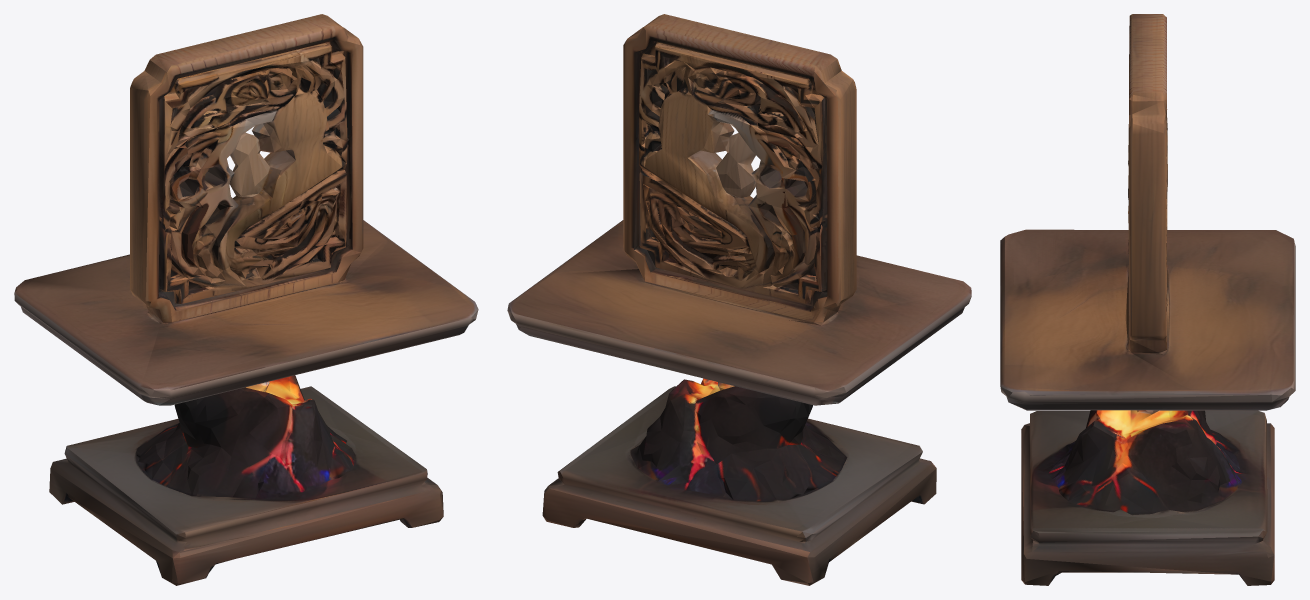
File: product-village-003-mobile.glb
3 renders of one model, left to right at view 1: azimuth 30°, elevation 25°; view 2: azimuth 150°, elevation 25°; view 3: azimuth 270°, elevation 25°, orthographic.
Visible parts, largest first — view 1: material; view 2: material; view 3: material.
Part boxes in pixels (box(x1,y1,x2,y2)): material: box(14, 14, 478, 585); material: box(507, 14, 971, 585); material: box(1000, 14, 1295, 585).
Size of the model in its own units: 0.7247 by 0.9594 by 0.5499.
Materials: 1 (1 with a texture image).
